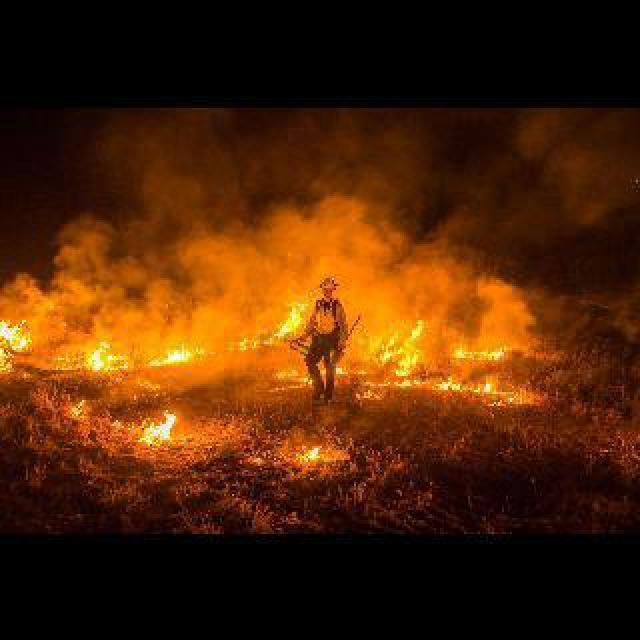fire: (0, 107, 526, 316)
smoke: (6, 288, 536, 402), (132, 410, 186, 448)
